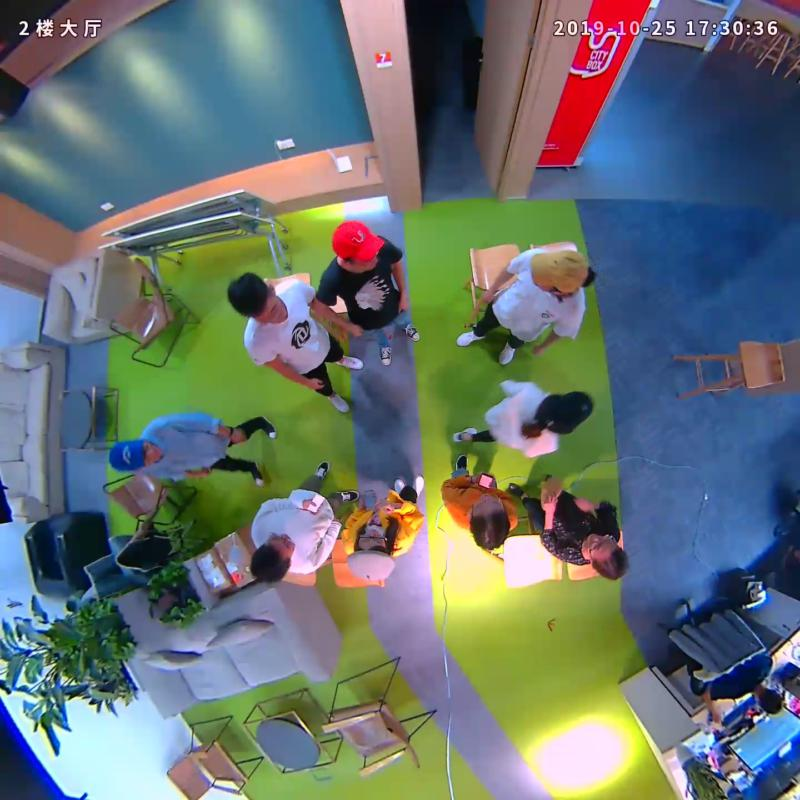head: (227, 272, 285, 325), (529, 250, 589, 298), (348, 524, 395, 581), (331, 218, 384, 268), (536, 391, 593, 436), (469, 492, 510, 553), (249, 532, 295, 585), (583, 531, 629, 582), (109, 438, 162, 472)
